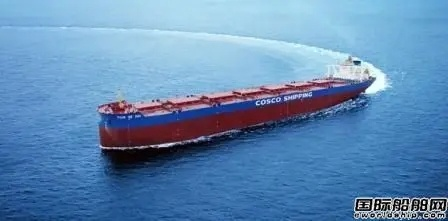Cargoship: (94, 53, 377, 150)
